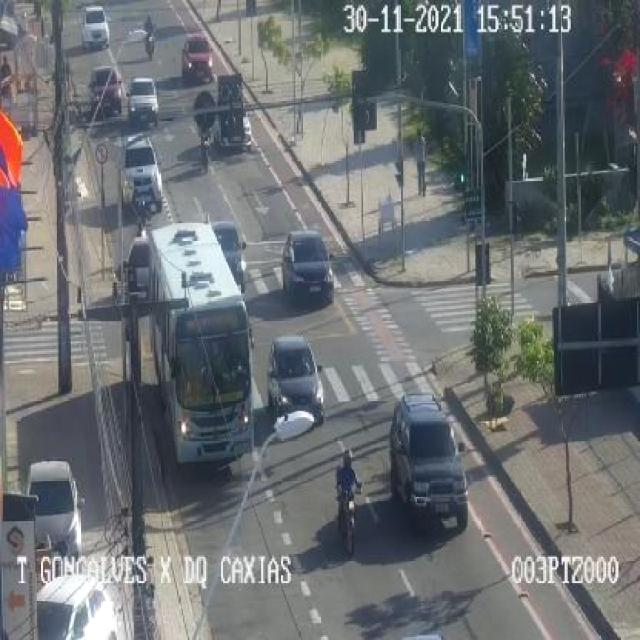Bus: (149, 222, 256, 469)
Car: (392, 397, 470, 532), (23, 459, 86, 563), (36, 576, 123, 638), (266, 336, 324, 428), (280, 229, 334, 306), (122, 134, 165, 216), (210, 220, 246, 292), (88, 66, 125, 118), (126, 76, 159, 126), (181, 34, 213, 83), (80, 5, 110, 50)
Cycle: (333, 481, 365, 554), (198, 136, 213, 172), (143, 28, 158, 61)
